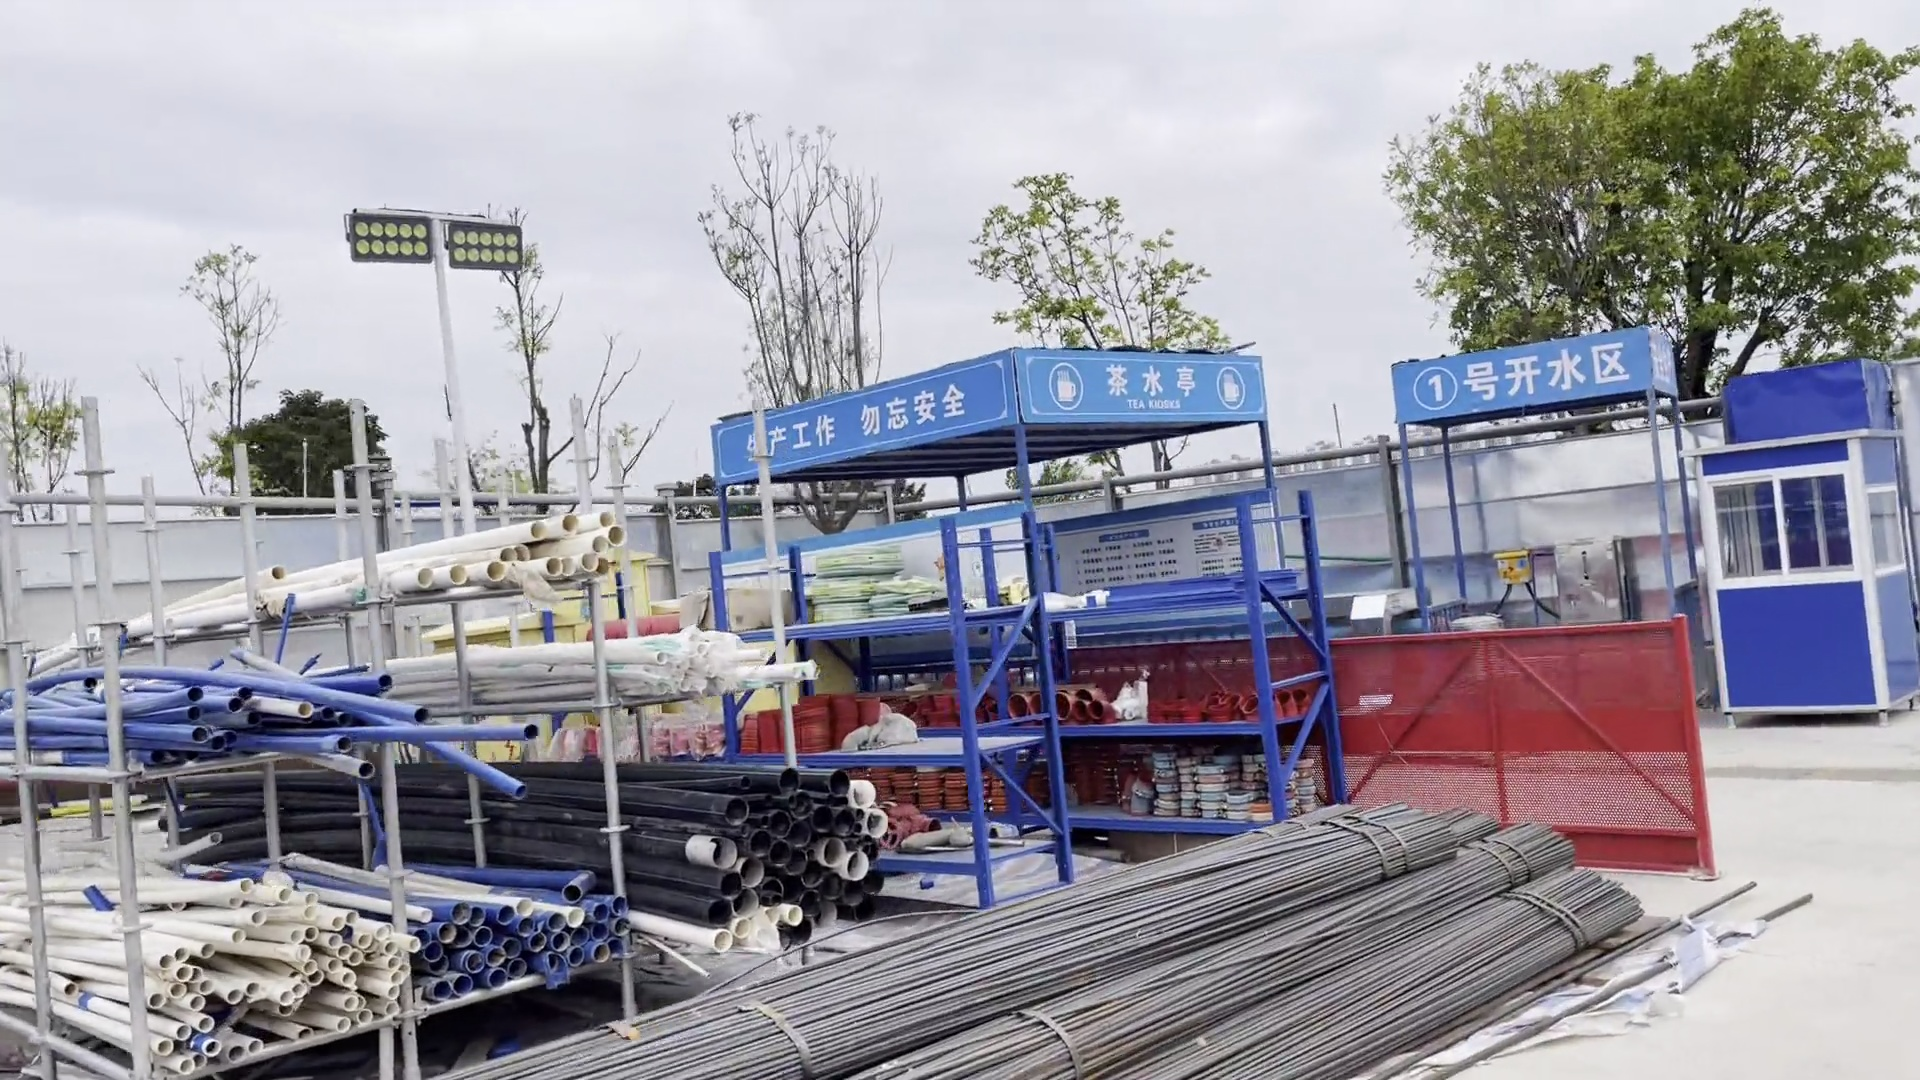ebox: (1487, 547, 1535, 591)
fence: (1319, 620, 1725, 887)
rebar: (814, 796, 1702, 1080), (462, 980, 840, 1080)
slogan: (667, 342, 1292, 495), (1381, 316, 1702, 443), (1040, 497, 1284, 584), (865, 509, 1036, 596)
